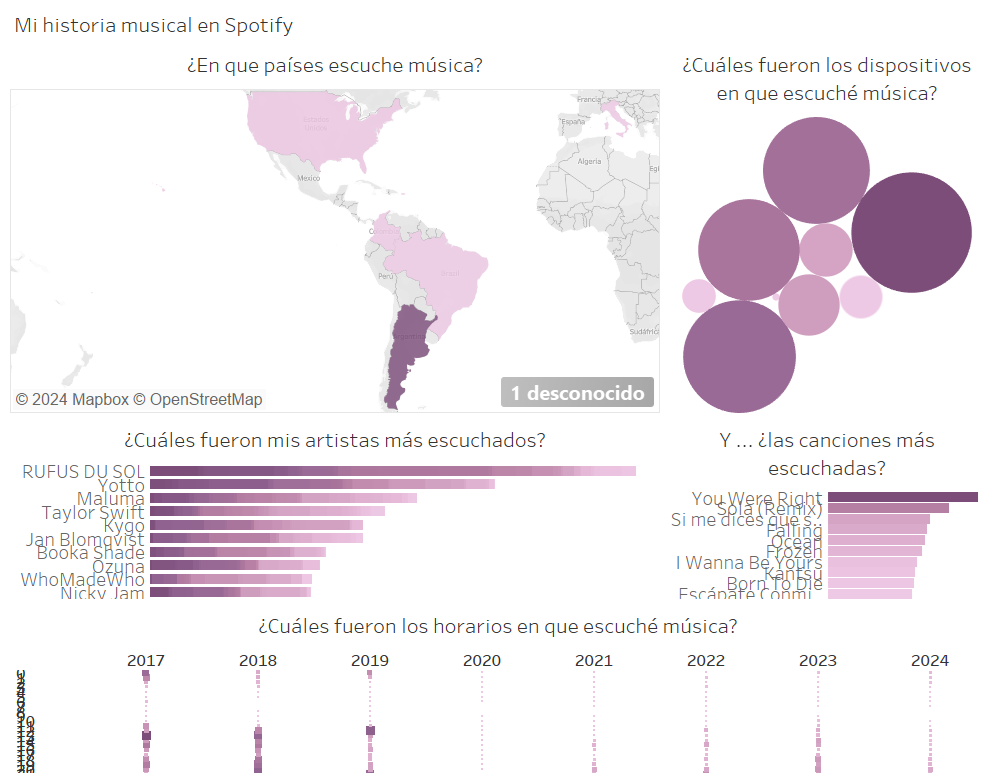

Layout of this report page (visuals, bound fields, positions):
{"tool":"tableau","page":{"name":"Dashboard ","canvas":[1000,800],"ordinal":0},"visuals":[{"type":"title","box":[8,8,984,36]},{"type":"worksheet","title":"Map","mark":"Multipolygon","box":[8,44,658,374.8]},{"type":"worksheet","title":"Devices","mark":"Circle","box":[666,44,326,374.8]},{"type":"worksheet","title":"Top Artist","mark":"Automatic","rows":["master_metadata_album_artist_name"],"cols":["Calculation_1074952990711906313"],"box":[8,418.8,658,185.9]},{"type":"worksheet","title":"Top Tracks","mark":"Bar","rows":["master_metadata_track_name"],"cols":["master_metadata_track_name"],"box":[666,418.8,326,185.9]},{"type":"worksheet","title":"Listened ","mark":"Automatic","rows":["Calculation_1074952990744166411"],"cols":["Ts (copia)_1074952990740029450"],"box":[8,604.6,984,187.4]}]}

Visuals, with their boxes in screenshot pixels (x1, y1, x2, y2), scaled from the page's 1000x800 canvas onto the 990x773 screenshot:
title: region(8, 8, 982, 43)
"Map" worksheet (Multipolygon marks): region(8, 43, 659, 405)
"Devices" worksheet (Circle marks): region(659, 43, 982, 405)
"Top Artist" worksheet: region(8, 405, 659, 584)
"Top Tracks" worksheet (Bar marks): region(659, 405, 982, 584)
"Listened " worksheet: region(8, 584, 982, 765)
